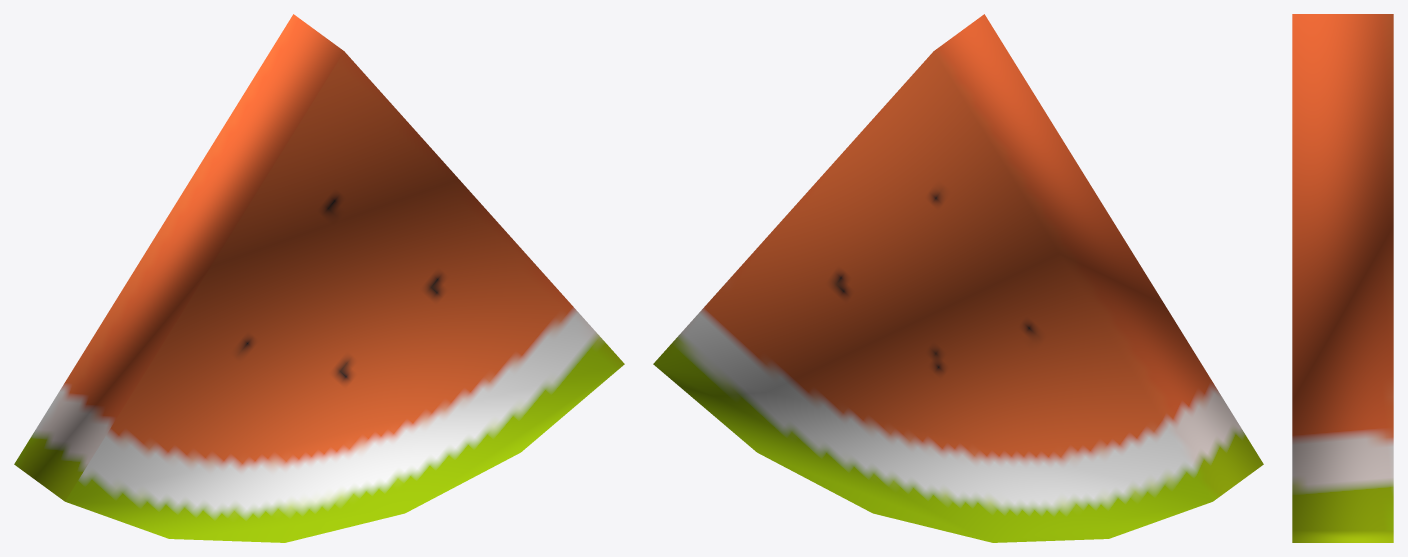
Rendered from Watermelon.FBX.
3 views of the same model, side by side, from view 1: azimuth 30°, elevation 25°; view 2: azimuth 150°, elevation 25°; view 3: azimuth 270°, elevation 25° (orthographic).
Parts seen in each view (by area): view 1: Watermelon; view 2: Watermelon; view 3: Watermelon.
Part boxes in pixels (<box>): Watermelon: <box>14,14,624,542</box>; Watermelon: <box>653,14,1263,542</box>; Watermelon: <box>1292,14,1393,542</box>.
Size of the model in its own units: 191 by 156 by 30.1.
